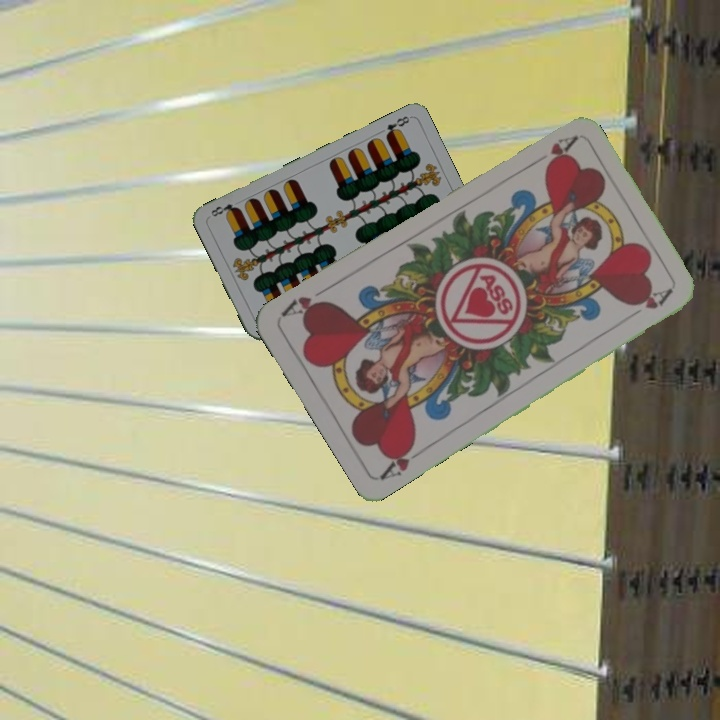E8: (382, 112, 412, 140)
HA: (377, 438, 430, 482), (524, 132, 579, 170)
